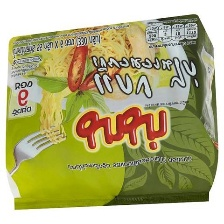snack: (0, 9, 224, 216)
